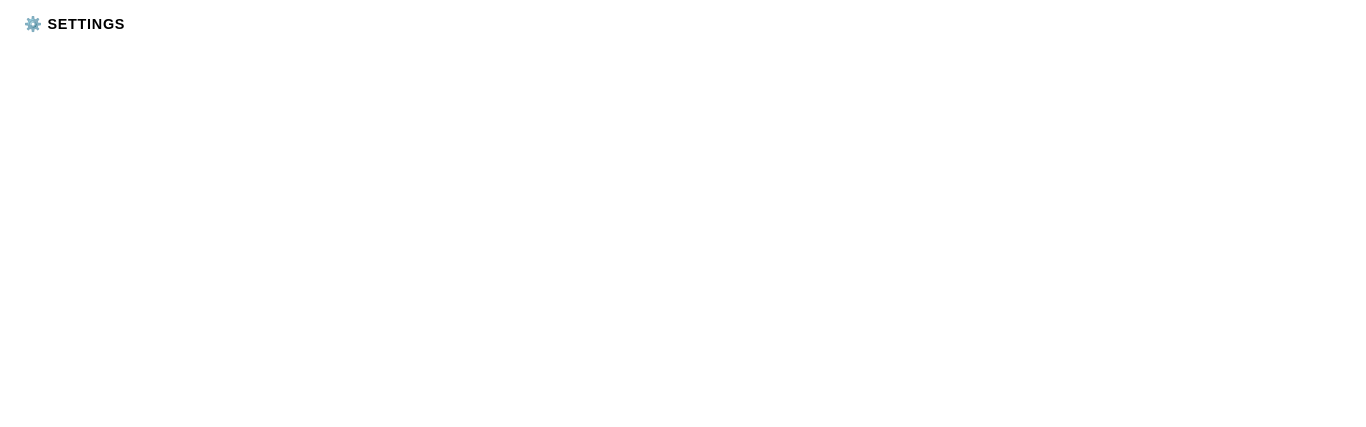
it: SettingsPanel › toggles notifications preference
What coordinates should you click on to do the following:
click the button "⚙️ Settings"
I would click on:
 (75, 24)
Its box is 8,8 -> 141,41.
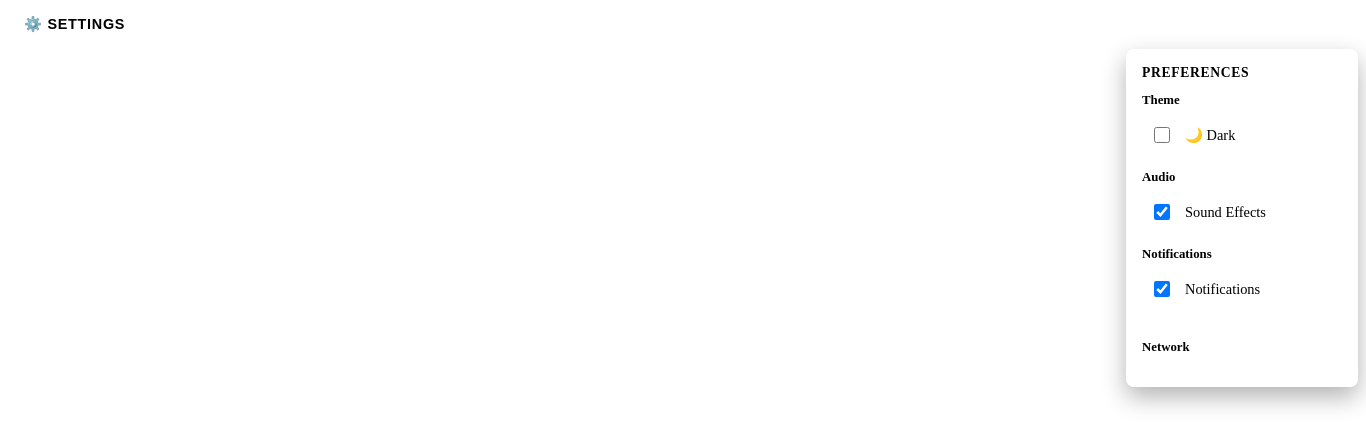
expect the checkbox labelled "Notifications" is shown: met
expect the checkbox labelled "Notifications" is checked: met
What coordinates should you click on to do the following:
click the checkbox labelled "Notifications"
I would click on:
 (1162, 289)
Its box is 1154,281 -> 1170,297.
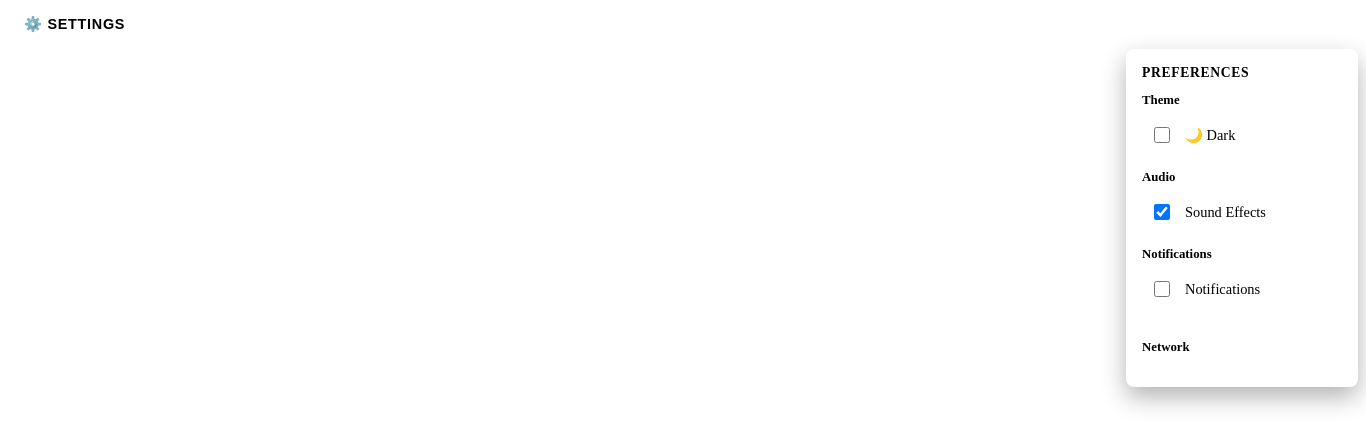
expect the checkbox labelled "Notifications" is not checked: met, box 1154,281 -> 1170,297
